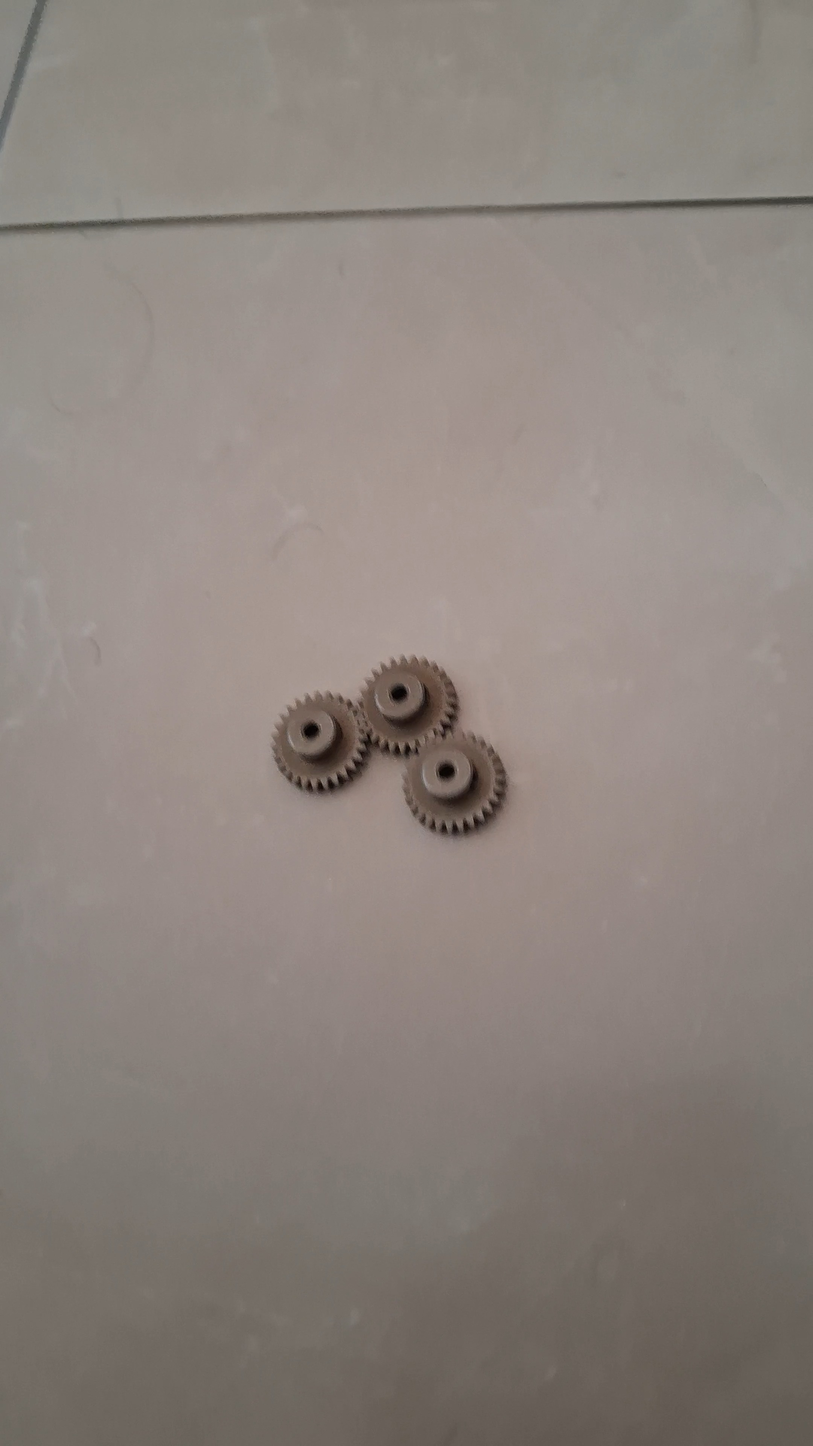spur gear: (404, 734, 506, 833), (360, 656, 458, 754), (272, 693, 368, 791)
